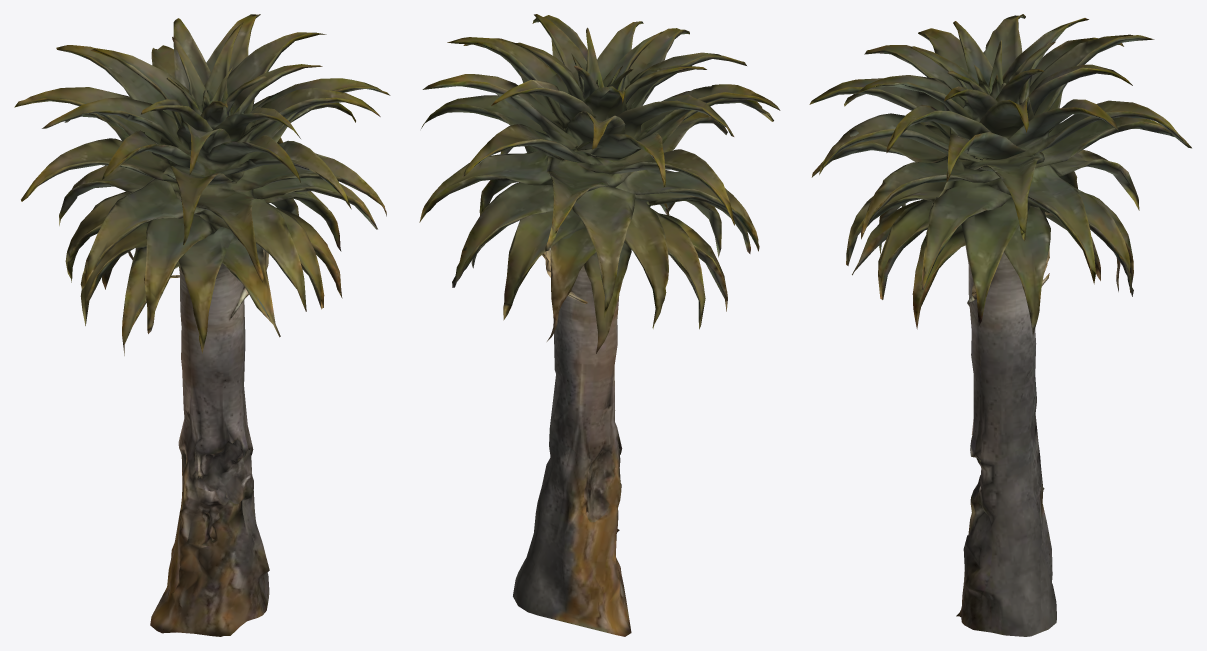
Rendered from desert_quiver_b.glb.
The picture shows the model from 3 angles, left to right: view 1: azimuth 30°, elevation 25°; view 2: azimuth 150°, elevation 25°; view 3: azimuth 270°, elevation 25°; orthographic projection.
Visible parts, largest first — view 1: quiver_tree_02; view 2: quiver_tree_02; view 3: quiver_tree_02.
Part boxes in pixels (<box>): quiver_tree_02: <box>14,14,390,636</box>; quiver_tree_02: <box>419,14,780,636</box>; quiver_tree_02: <box>809,14,1191,636</box>.
Size of the model in its own units: 0.8666 by 1.47 by 0.8806.
1 material, 1 textured.
